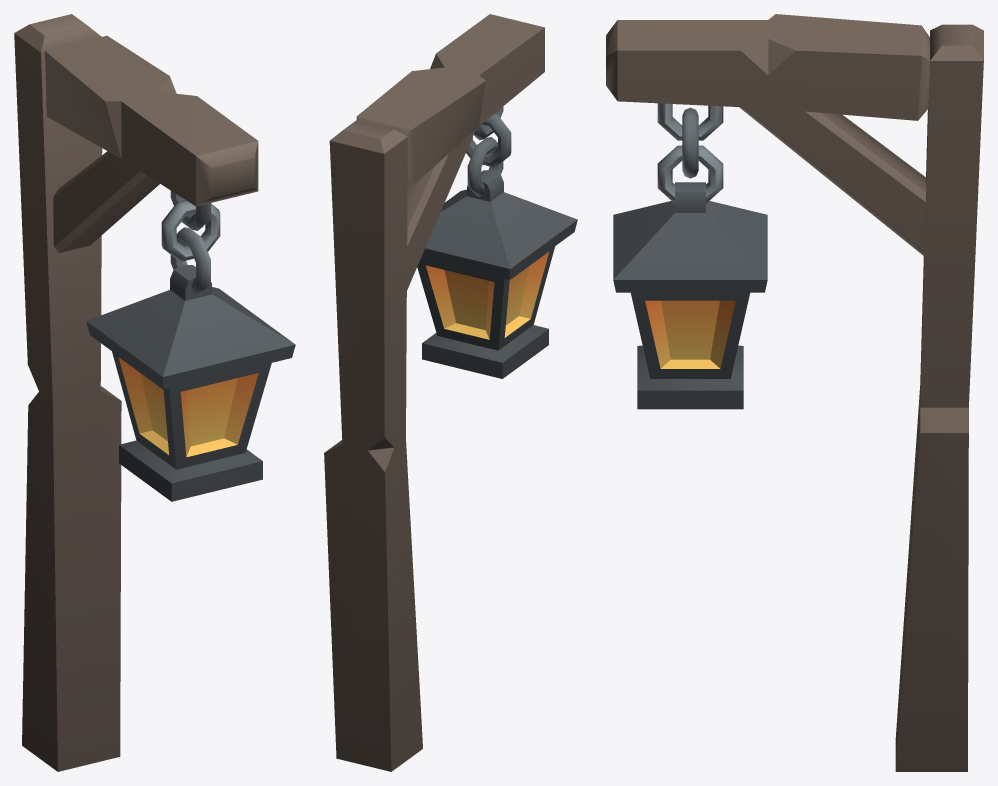
File: lantern.glb
3 views of the same model, side by side, from view 1: azimuth 30°, elevation 25°; view 2: azimuth 150°, elevation 25°; view 3: azimuth 270°, elevation 25° (orthographic). The views are drawn at different scales.
Parts seen in each view (by area): view 1: post_lantern, post_lantern_lantern; view 2: post_lantern, post_lantern_lantern; view 3: post_lantern, post_lantern_lantern.
Part boxes in pixels (x1,y1,x2,y2): post_lantern: (14, 14, 258, 771); post_lantern_lantern: (86, 191, 295, 501); post_lantern: (324, 14, 544, 771); post_lantern_lantern: (417, 106, 577, 378); post_lantern: (606, 14, 983, 771); post_lantern_lantern: (613, 103, 767, 409).
Size of the model in its own units: 0.64 by 3.3 by 1.57.
1 material, 1 textured.
